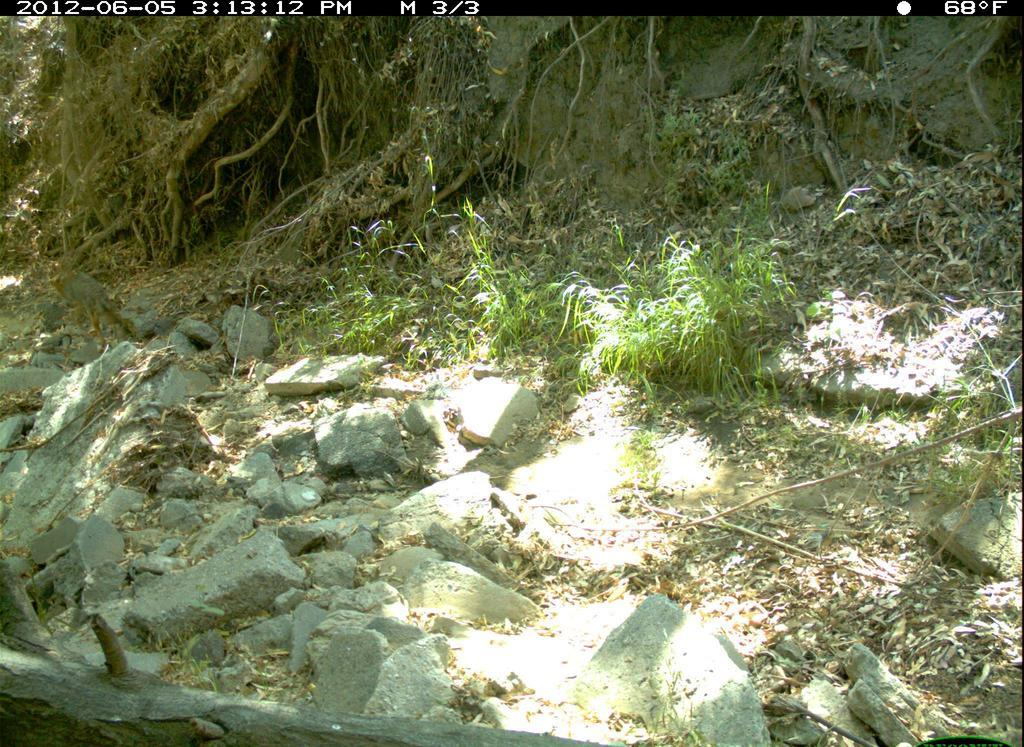coyote: (41, 263, 135, 356)
